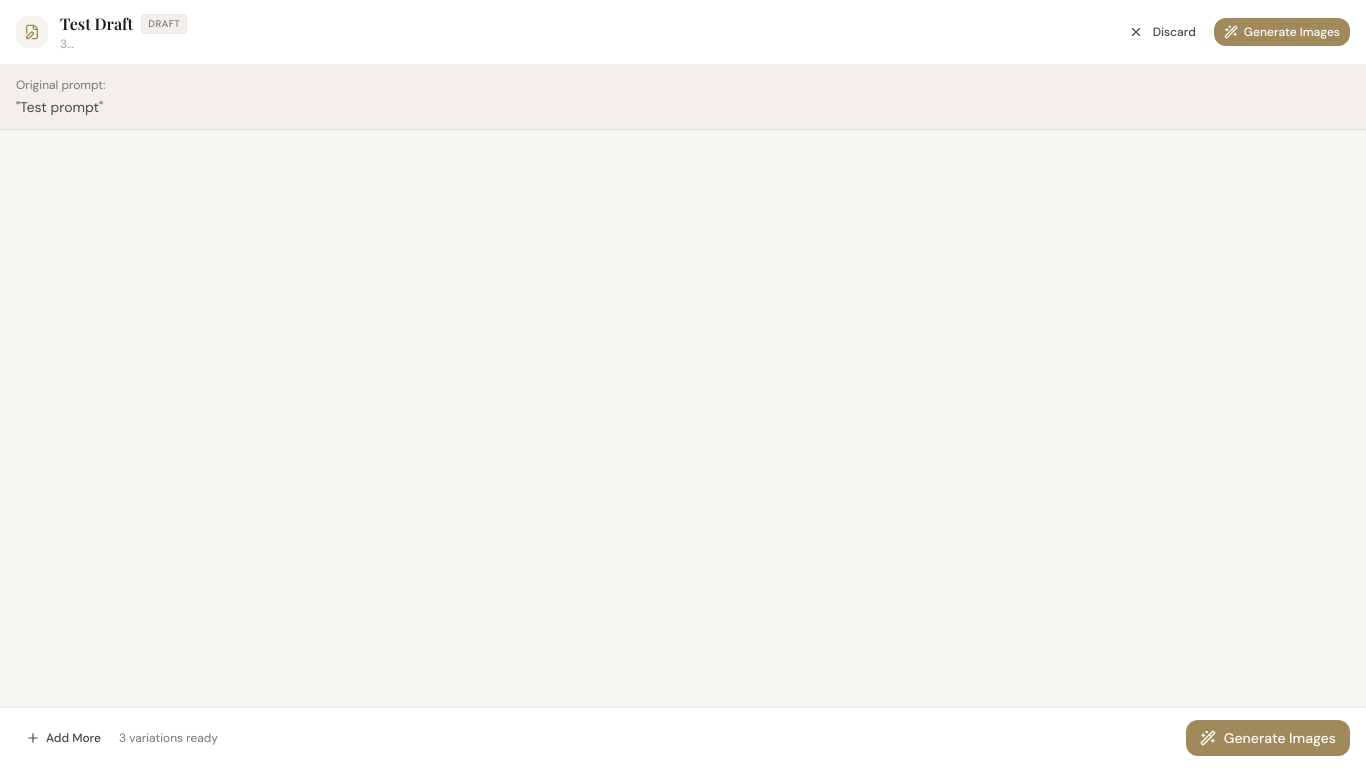
Scenario: DraftVariationsView › Issue #34: Variation selection and deletion › should exit selection mode on Cancel
The image size is (1366, 768).
// Enter selection mode
Click the button titled "Select variations to delete". click: (32, 32)
box: [16,16,48,48]
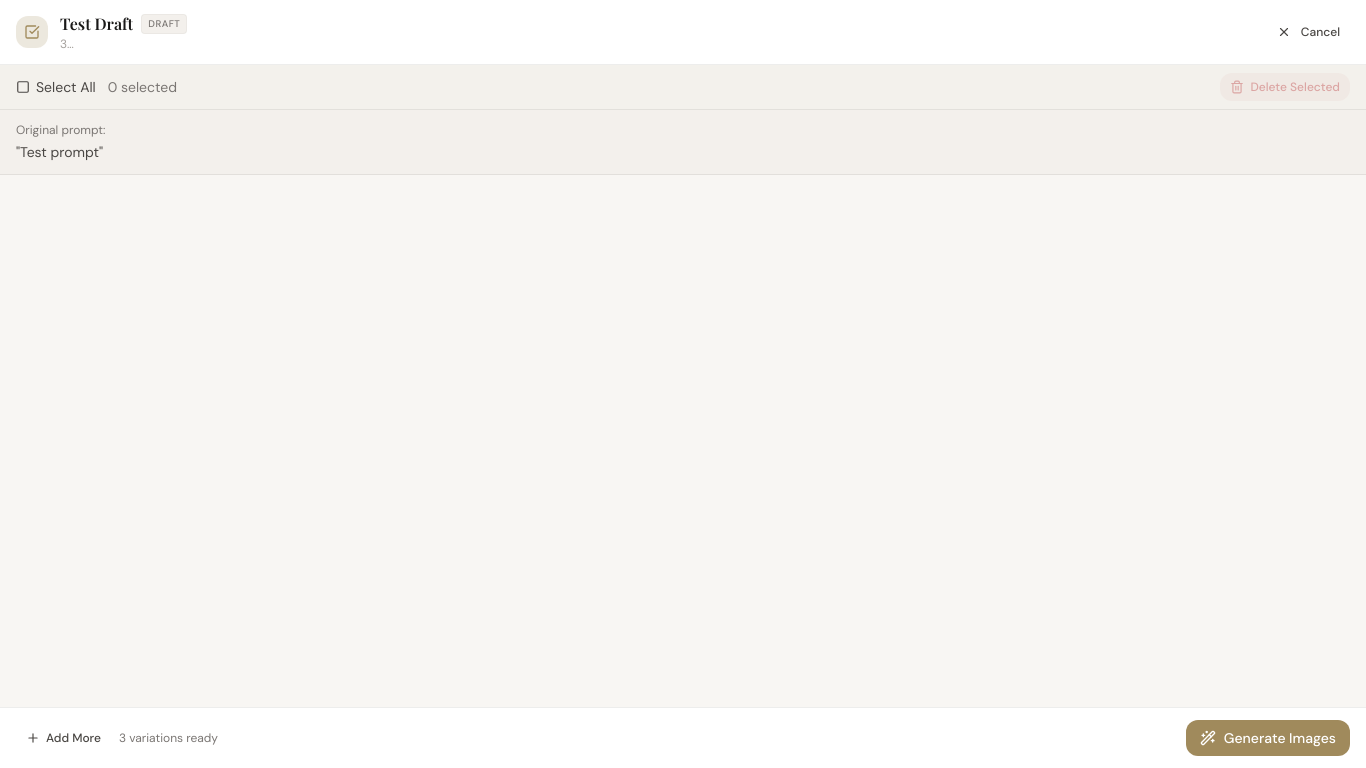
// Click Cancel
Click the button "Cancel". click: (1308, 32)
box: [1267,18,1350,46]
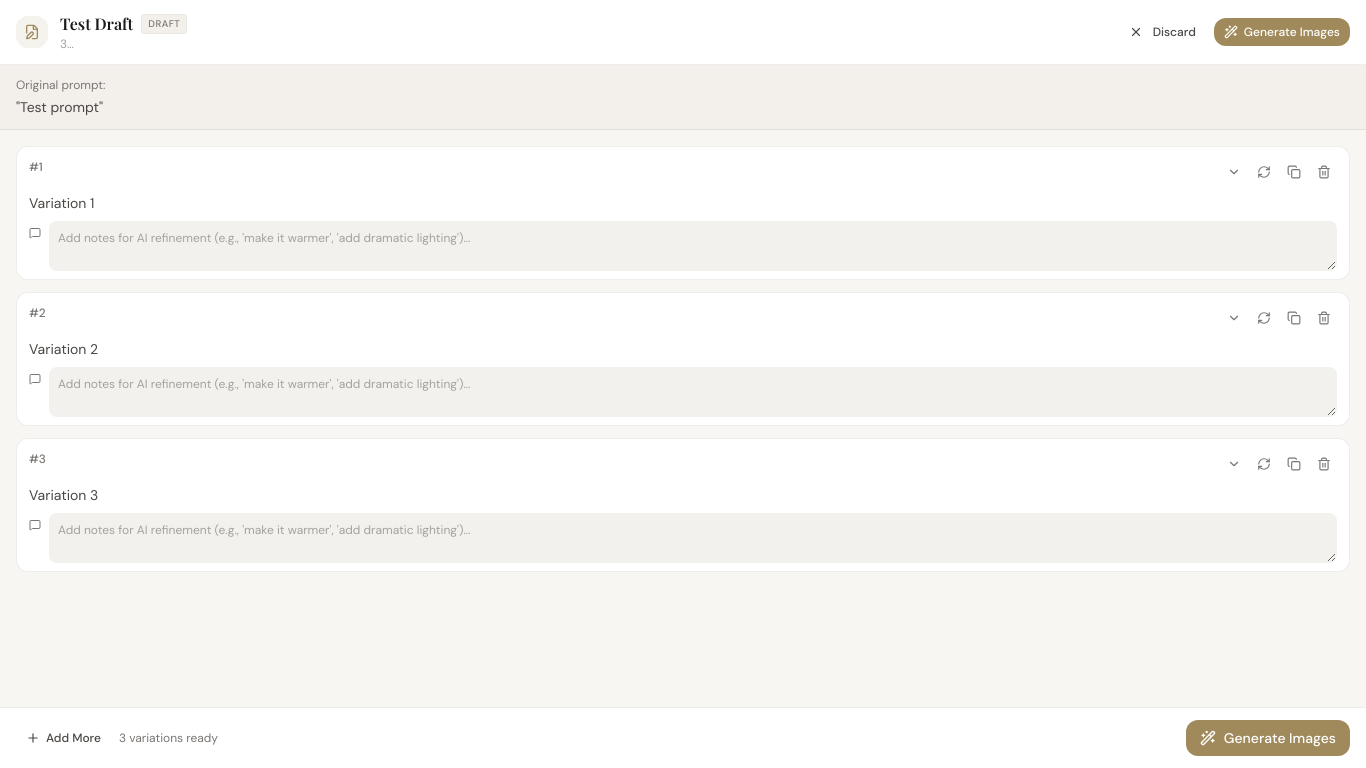
Check: the button "Select All" is gone
Check: the button "Delete Selected" is gone
